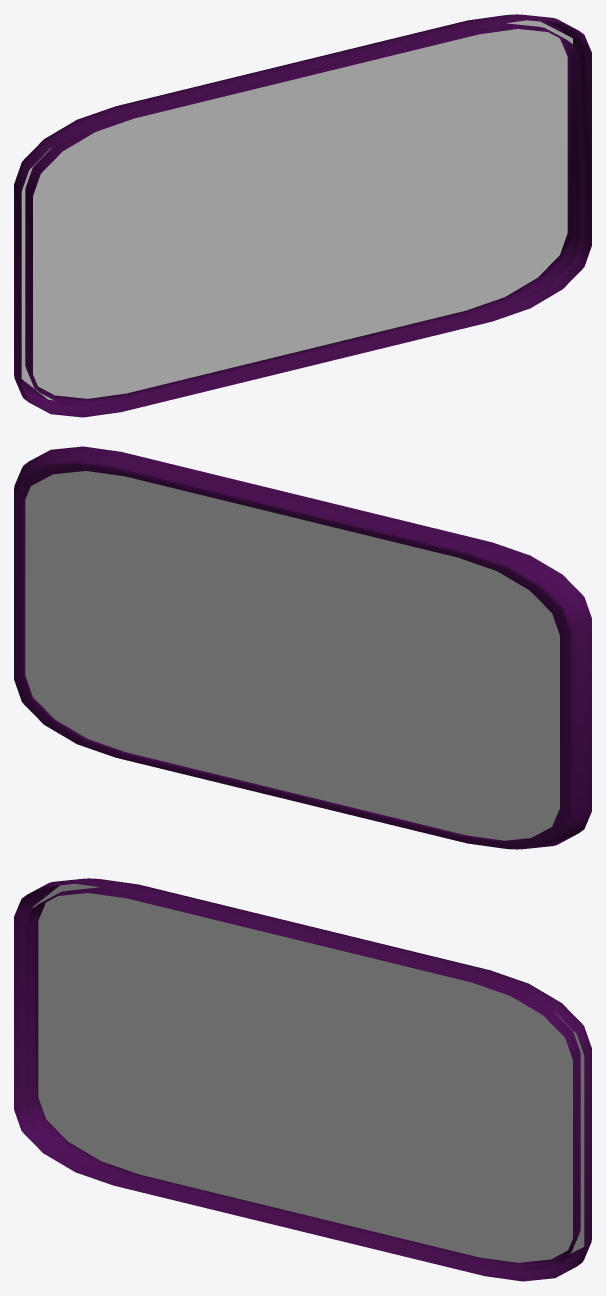
Rendered from SM_Window.fbx.
3 views of the same model, one above another, from view 1: azimuth 30°, elevation 25°; view 2: azimuth 150°, elevation 25°; view 3: azimuth 330°, elevation 25° (orthographic).
Visible parts, largest first — view 1: SM_Window_Sky, SM_Window_frame; view 2: SM_Window_Sky, SM_Window_frame; view 3: SM_Window_Sky, SM_Window_frame.
Boxes of the visible parts, bbox=[...] form: SM_Window_Sky: bbox=[21, 20, 572, 400]; SM_Window_frame: bbox=[14, 14, 591, 417]; SM_Window_Sky: bbox=[25, 471, 559, 840]; SM_Window_frame: bbox=[14, 446, 591, 849]; SM_Window_Sky: bbox=[33, 884, 584, 1262]; SM_Window_frame: bbox=[14, 878, 591, 1281].
Bounding box in the file's own units: 1045 × 519 × 48.42.
